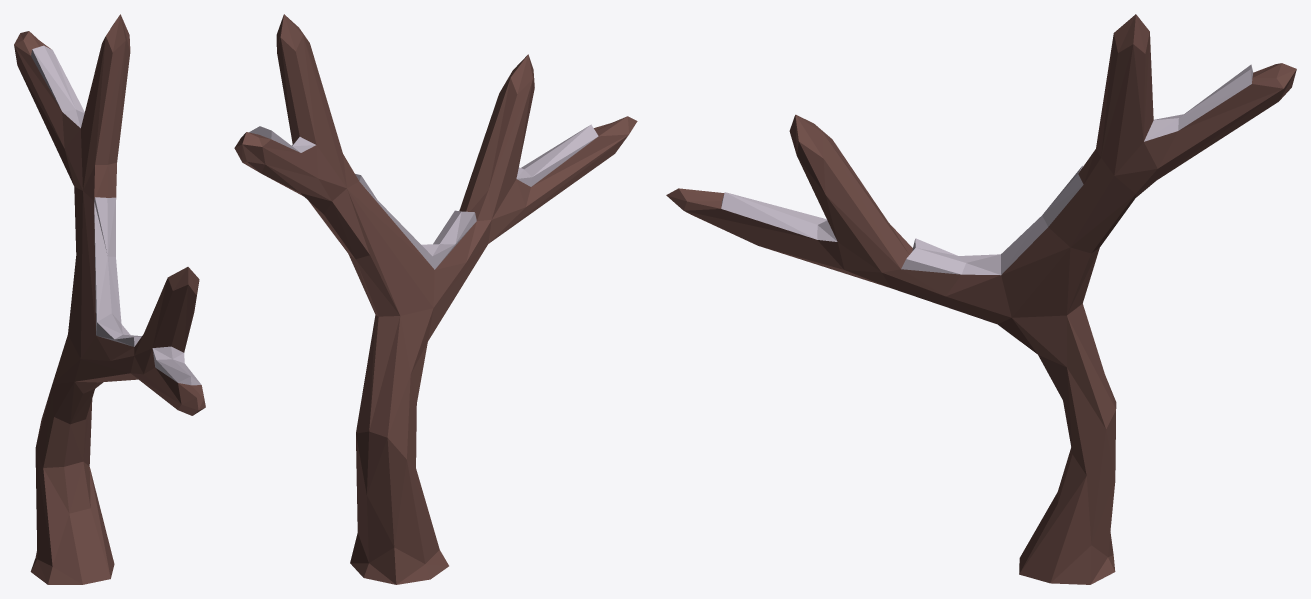
Rendered from Willow_Dead_Snow_5.lod1.glb.
3 renders of one model, left to right at view 1: azimuth 30°, elevation 25°; view 2: azimuth 150°, elevation 25°; view 3: azimuth 270°, elevation 25°, orthographic. The views are drawn at different scales.
Parts seen in each view (by area): view 1: Willow_Dead_Snow_5; view 2: Willow_Dead_Snow_5; view 3: Willow_Dead_Snow_5.
Part boxes in pixels (<box>): Willow_Dead_Snow_5: <box>14,14,205,584</box>; Willow_Dead_Snow_5: <box>234,14,637,584</box>; Willow_Dead_Snow_5: <box>666,14,1296,584</box>.
Size of the model in its own units: 0.5695 by 2.03 by 1.95.
